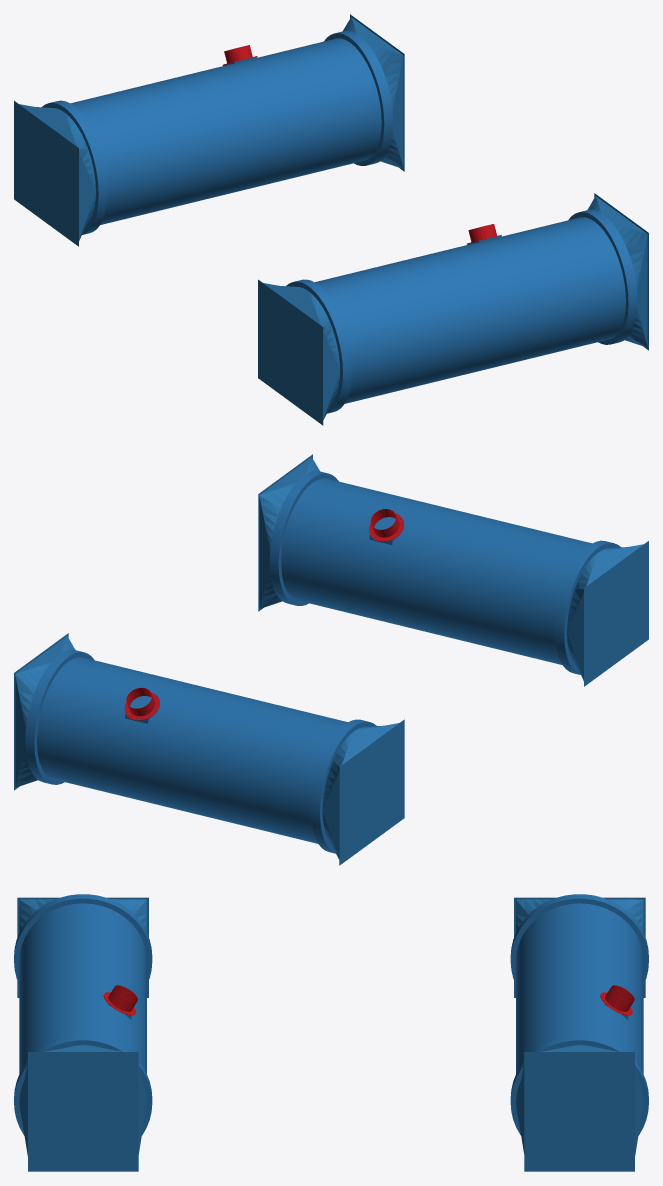
Rendered from Phase16 (2).fbx.
3 renders of one model, top to bottom at view 1: azimuth 30°, elevation 25°; view 2: azimuth 150°, elevation 25°; view 3: azimuth 270°, elevation 25°, orthographic.
Parts seen in each view (by area): view 1: Условный материал-отделка 12804 (×2), CPS_Переходник_КруглыйНаПрямоугольный:Стандарт:649865, CPS_Переходник_КруглыйНаПрямоугольный:Стандарт:587590, CPS_Переходник_КруглыйНаПрямоугольный:Стандарт:587591, CPS_Переходник_КруглыйНаПрямоугольный:Стандарт:587553; view 2: Условный материал-отделка 12804 (×2), CPS_Переходник_КруглыйНаПрямоугольный:Стандарт:587590, CPS_Переходник_КруглыйНаПрямоугольный:Стандарт:649865, CPS_Переходник_КруглыйНаПрямоугольный:Стандарт:587553, CPS_Переходник_КруглыйНаПрямоугольный:Стандарт:587591, Сталь (×2); view 3: Условный материал-отделка 12804 (×2), CPS_Переходник_КруглыйНаПрямоугольный:Стандарт:587553, CPS_Переходник_КруглыйНаПрямоугольный:Стандарт:587591, Сталь (×2), CPS_Переходник_КруглыйНаПрямоугольный:Стандарт:587590, CPS_Переходник_КруглыйНаПрямоугольный:Стандарт:649865.
Boxes of the visible parts, x1,y1,x2,y2 form: Условный материал-отделка 12804 (×2): [41, 31, 637, 413]; CPS_Переходник_КруглыйНаПрямоугольный:Стандарт:649865: [258, 279, 339, 425]; CPS_Переходник_КруглыйНаПрямоугольный:Стандарт:587590: [14, 101, 95, 246]; CPS_Переходник_КруглыйНаПрямоугольный:Стандарт:587591: [343, 14, 404, 171]; CPS_Переходник_КруглыйНаПрямоугольный:Стандарт:587553: [587, 193, 648, 350]; Условный материал-отделка 12804 (×2): [25, 471, 620, 853]; CPS_Переходник_КруглыйНаПрямоугольный:Стандарт:587590: [322, 719, 404, 865]; CPS_Переходник_КруглыйНаПрямоугольный:Стандарт:649865: [567, 541, 648, 686]; CPS_Переходник_КруглыйНаПрямоугольный:Стандарт:587553: [258, 454, 319, 611]; CPS_Переходник_КруглыйНаПрямоугольный:Стандарт:587591: [14, 633, 75, 790]; Сталь (×2): [124, 509, 404, 720]; Условный материал-отделка 12804 (×2): [14, 894, 648, 1135]; CPS_Переходник_КруглыйНаПрямоугольный:Стандарт:587553: [19, 1045, 146, 1171]; CPS_Переходник_КруглыйНаПрямоугольный:Стандарт:587591: [516, 1045, 643, 1171]; Сталь (×2): [103, 985, 634, 1015]; CPS_Переходник_КруглыйНаПрямоугольный:Стандарт:587590: [514, 897, 645, 997]; CPS_Переходник_КруглыйНаПрямоугольный:Стандарт:649865: [17, 897, 148, 997].
Bounding box in the file's own units: 3652 × 5967 × 1325.
